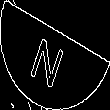N_NE: (34, 24, 76, 86)
